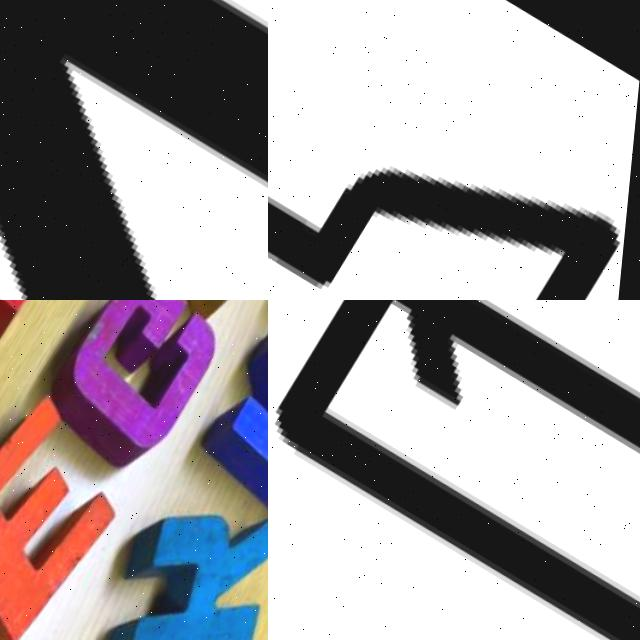E: (0, 369, 161, 640)
G: (30, 300, 246, 471)
K: (76, 441, 268, 640)
N: (0, 0, 268, 300), (174, 300, 268, 535)
Q: (268, 300, 640, 640)
R: (268, 0, 640, 300)
